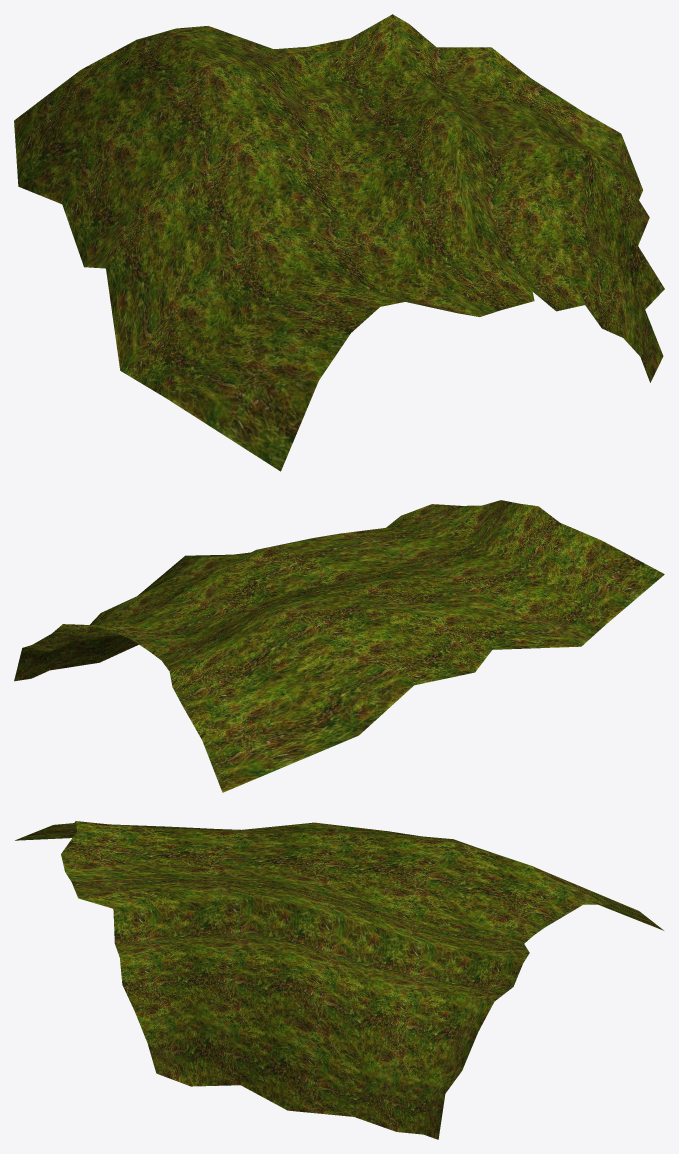
Rendered from TROLLHOLE02_ZOBJECT03.fbx.
3 renders of one model, top to bottom at view 1: azimuth 30°, elevation 25°; view 2: azimuth 150°, elevation 25°; view 3: azimuth 270°, elevation 25°, orthographic. The views are drawn at different scales.
Parts seen in each view (by area): view 1: TROLLHOLE02_ZOBJECT03; view 2: TROLLHOLE02_ZOBJECT03; view 3: TROLLHOLE02_ZOBJECT03.
Part boxes in pixels (x1,y1,x2,y2): TROLLHOLE02_ZOBJECT03: [14, 14, 664, 471]; TROLLHOLE02_ZOBJECT03: [14, 500, 664, 792]; TROLLHOLE02_ZOBJECT03: [15, 821, 663, 1139].
Size of the model in its own units: 298069 by 90549 by 349138.
1 material, 1 textured.
